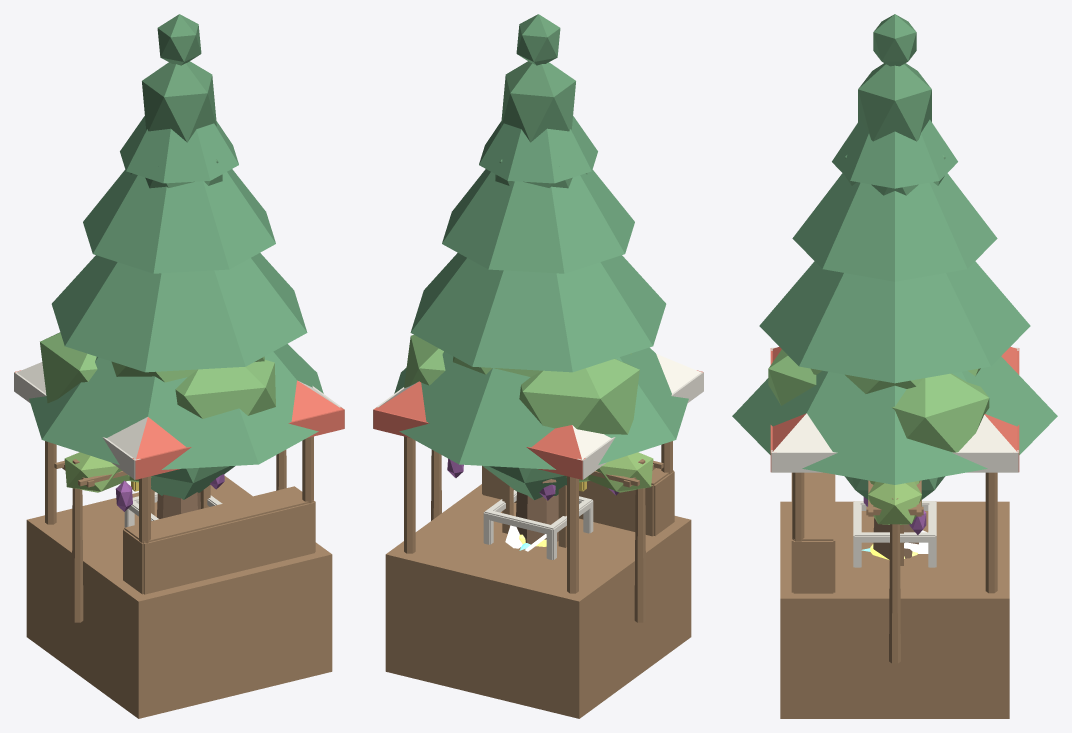
File: props_pack.glb
3 views of the same model, side by side, from view 1: azimuth 30°, elevation 25°; view 2: azimuth 150°, elevation 25°; view 3: azimuth 270°, elevation 25° (orthographic). The views are drawn at different scales.
Parts seen in each view (by area): view 1: MarketTent, Tree_Pine, Tree_Cypress, Tree_Orchard, VineTrellis; view 2: MarketTent, Tree_Pine, Tree_Orchard, Tree_Cypress, VineTrellis, ItemCrate, ChevronSign; view 3: Tree_Pine, MarketTent, Tree_Orchard, Tree_Cypress, VineTrellis, ItemCrate.
Part boxes in pixels (x1,y1,x2,y2): MarketTent: (14, 362, 344, 718); Tree_Pine: (29, 116, 323, 518); Tree_Cypress: (130, 14, 234, 499); Tree_Orchard: (40, 332, 275, 418); VineTrellis: (54, 450, 286, 622); MarketTent: (373, 354, 703, 718); Tree_Pine: (394, 116, 688, 544); Tree_Orchard: (404, 335, 639, 483); Tree_Cypress: (483, 14, 587, 500); VineTrellis: (431, 450, 663, 622); ItemCrate: (483, 490, 593, 559); ChevronSign: (502, 481, 586, 547); Tree_Pine: (732, 119, 1057, 559); MarketTent: (770, 346, 1019, 718); Tree_Orchard: (768, 349, 989, 452); Tree_Cypress: (844, 14, 945, 499); VineTrellis: (863, 480, 926, 663); ItemCrate: (853, 501, 936, 567).
Bounding box in the file's own units: 5.4 × 12 × 5.4.
